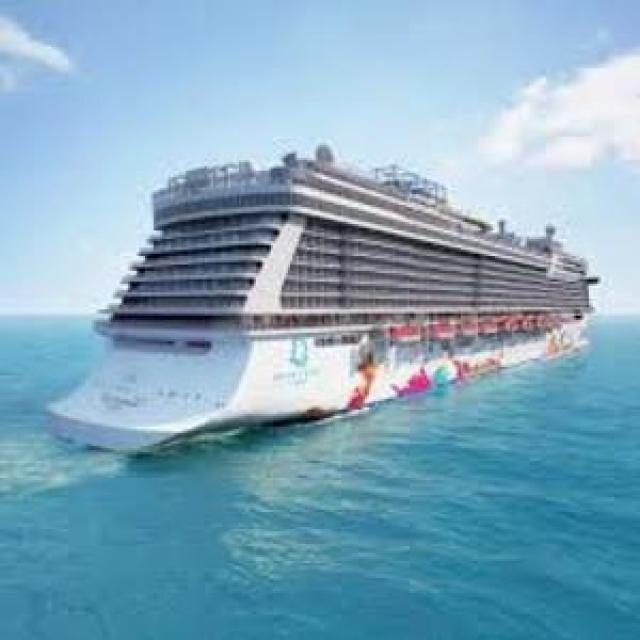passenger ship: (44, 132, 604, 463)
